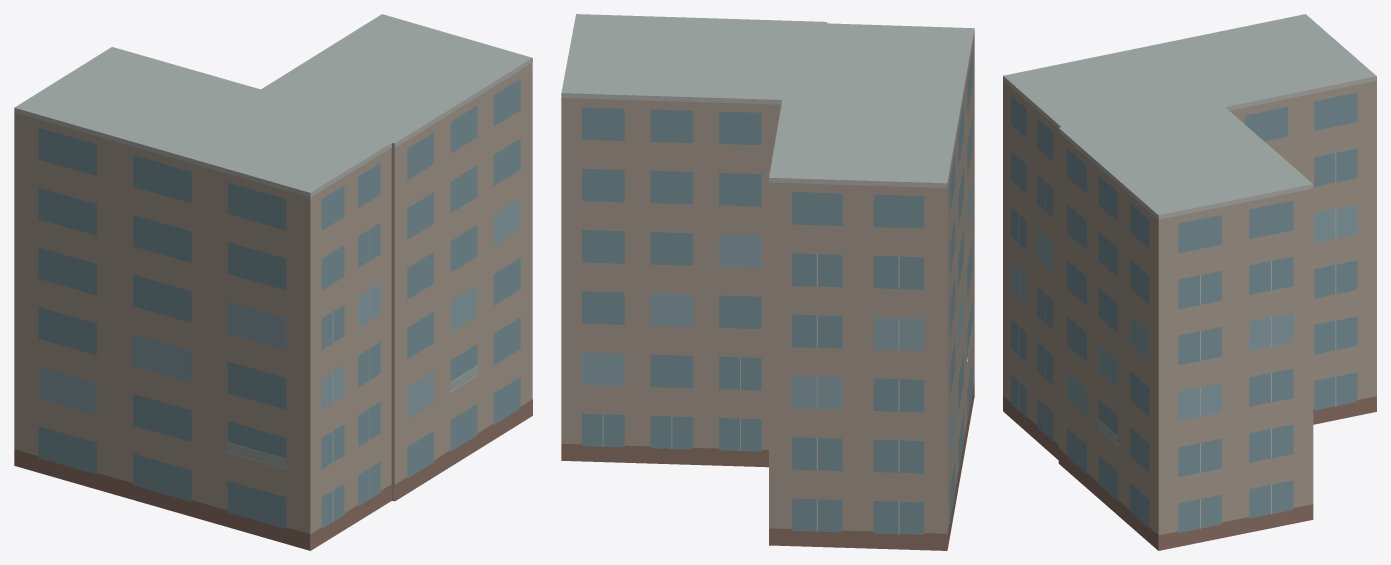
The model's file is survey-upis-32696932.glb.
The picture shows the model from 3 angles, left to right: view 1: azimuth 30°, elevation 25°; view 2: azimuth 150°, elevation 25°; view 3: azimuth 270°, elevation 25°; orthographic projection. The views are drawn at different scales.
Parts seen in each view (by area): view 1: survey-upis-32696932.tmp; view 2: survey-upis-32696932.tmp; view 3: survey-upis-32696932.tmp.
Part boxes in pixels (x1,y1,x2,y2): survey-upis-32696932.tmp: (14, 14, 532, 550); survey-upis-32696932.tmp: (561, 14, 974, 550); survey-upis-32696932.tmp: (1003, 14, 1376, 550).
Size of the model in its own units: 23.94 by 18.6 by 18.78.
